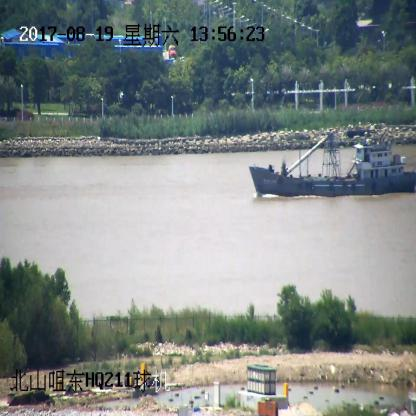Fishing Boat: (250, 129, 416, 198)
